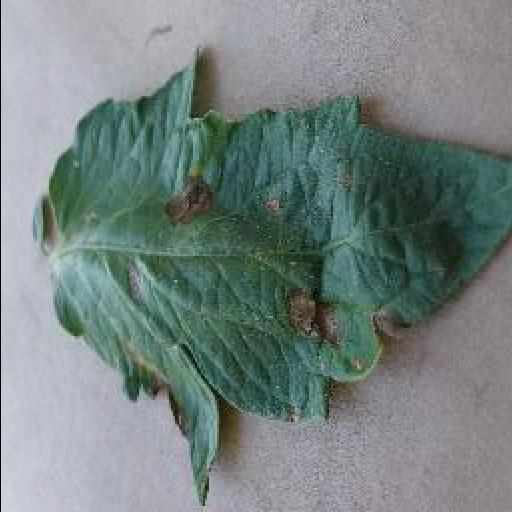Early Blight: (28, 47, 510, 508)
